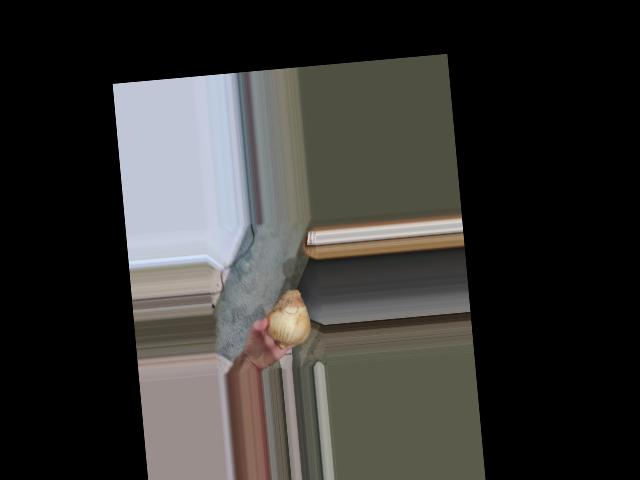onion: (262, 287, 309, 346)
